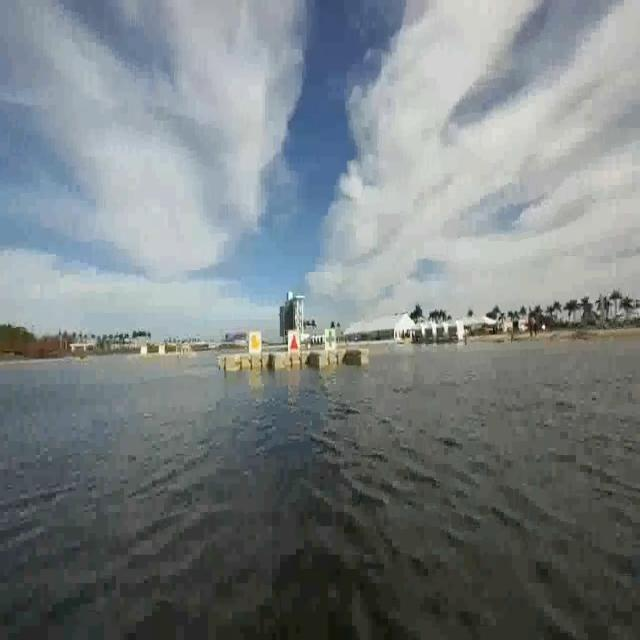blue-cross: (326, 326, 337, 352)
red-dot: (288, 330, 300, 354)
yellow-duck: (250, 329, 262, 354)
